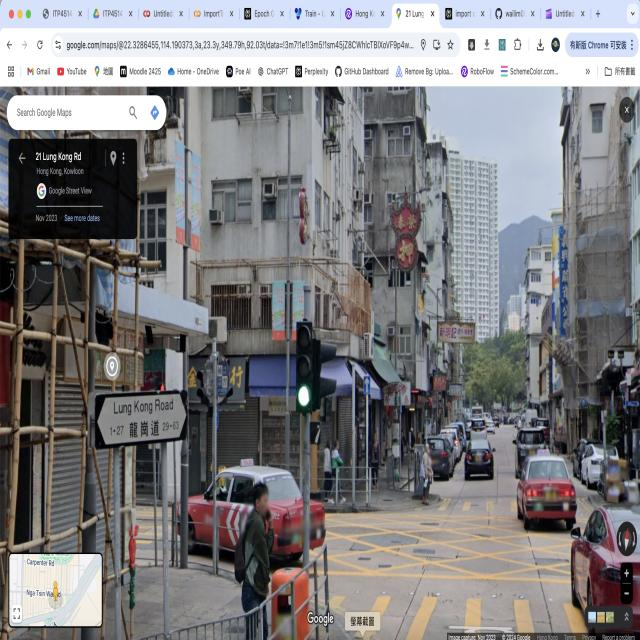Street-Direction-Sign: (94, 394, 189, 444)
